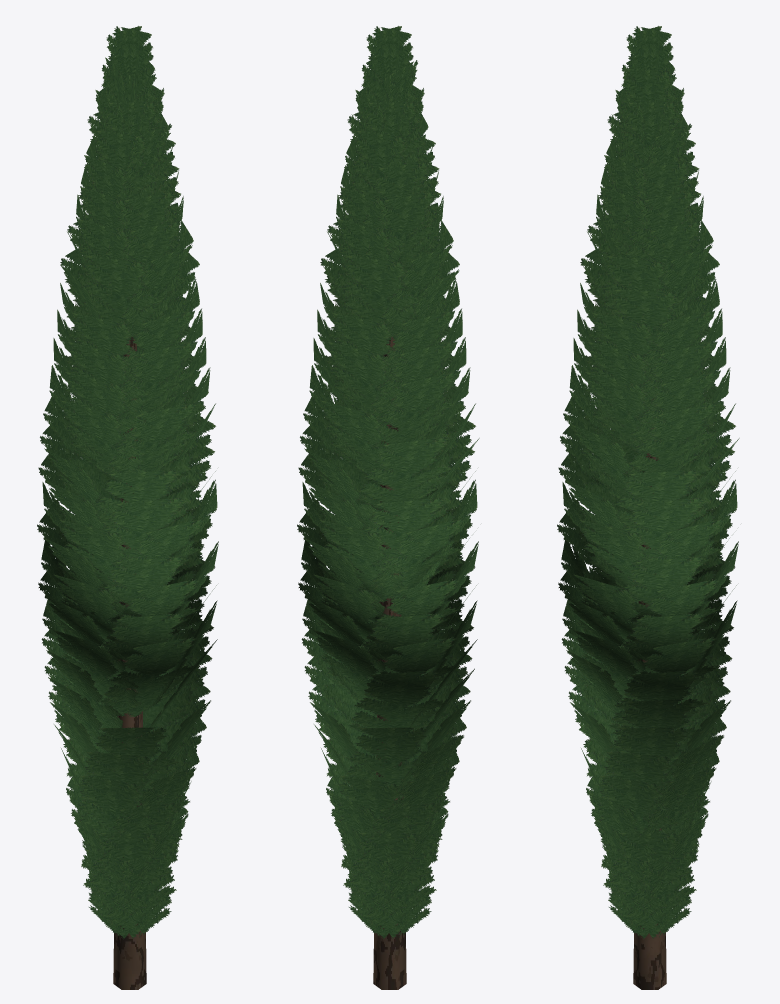
File: cypress0_lod0.fbx
The picture shows the model from 3 angles, left to right: view 1: azimuth 30°, elevation 25°; view 2: azimuth 150°, elevation 25°; view 3: azimuth 270°, elevation 25°; orthographic projection.
Parts seen in each view (by area): view 1: cypress0_lod0; view 2: cypress0_lod0; view 3: cypress0_lod0.
Boxes of the visible parts, left/top/right/bottom form: cypress0_lod0: left=37, top=26, right=218, bottom=989; cypress0_lod0: left=297, top=26, right=479, bottom=989; cypress0_lod0: left=557, top=26, right=739, bottom=989.
Size of the model in its own units: 3.04 by 13.86 by 3.06.
Materials: 2 (2 with a texture image).
